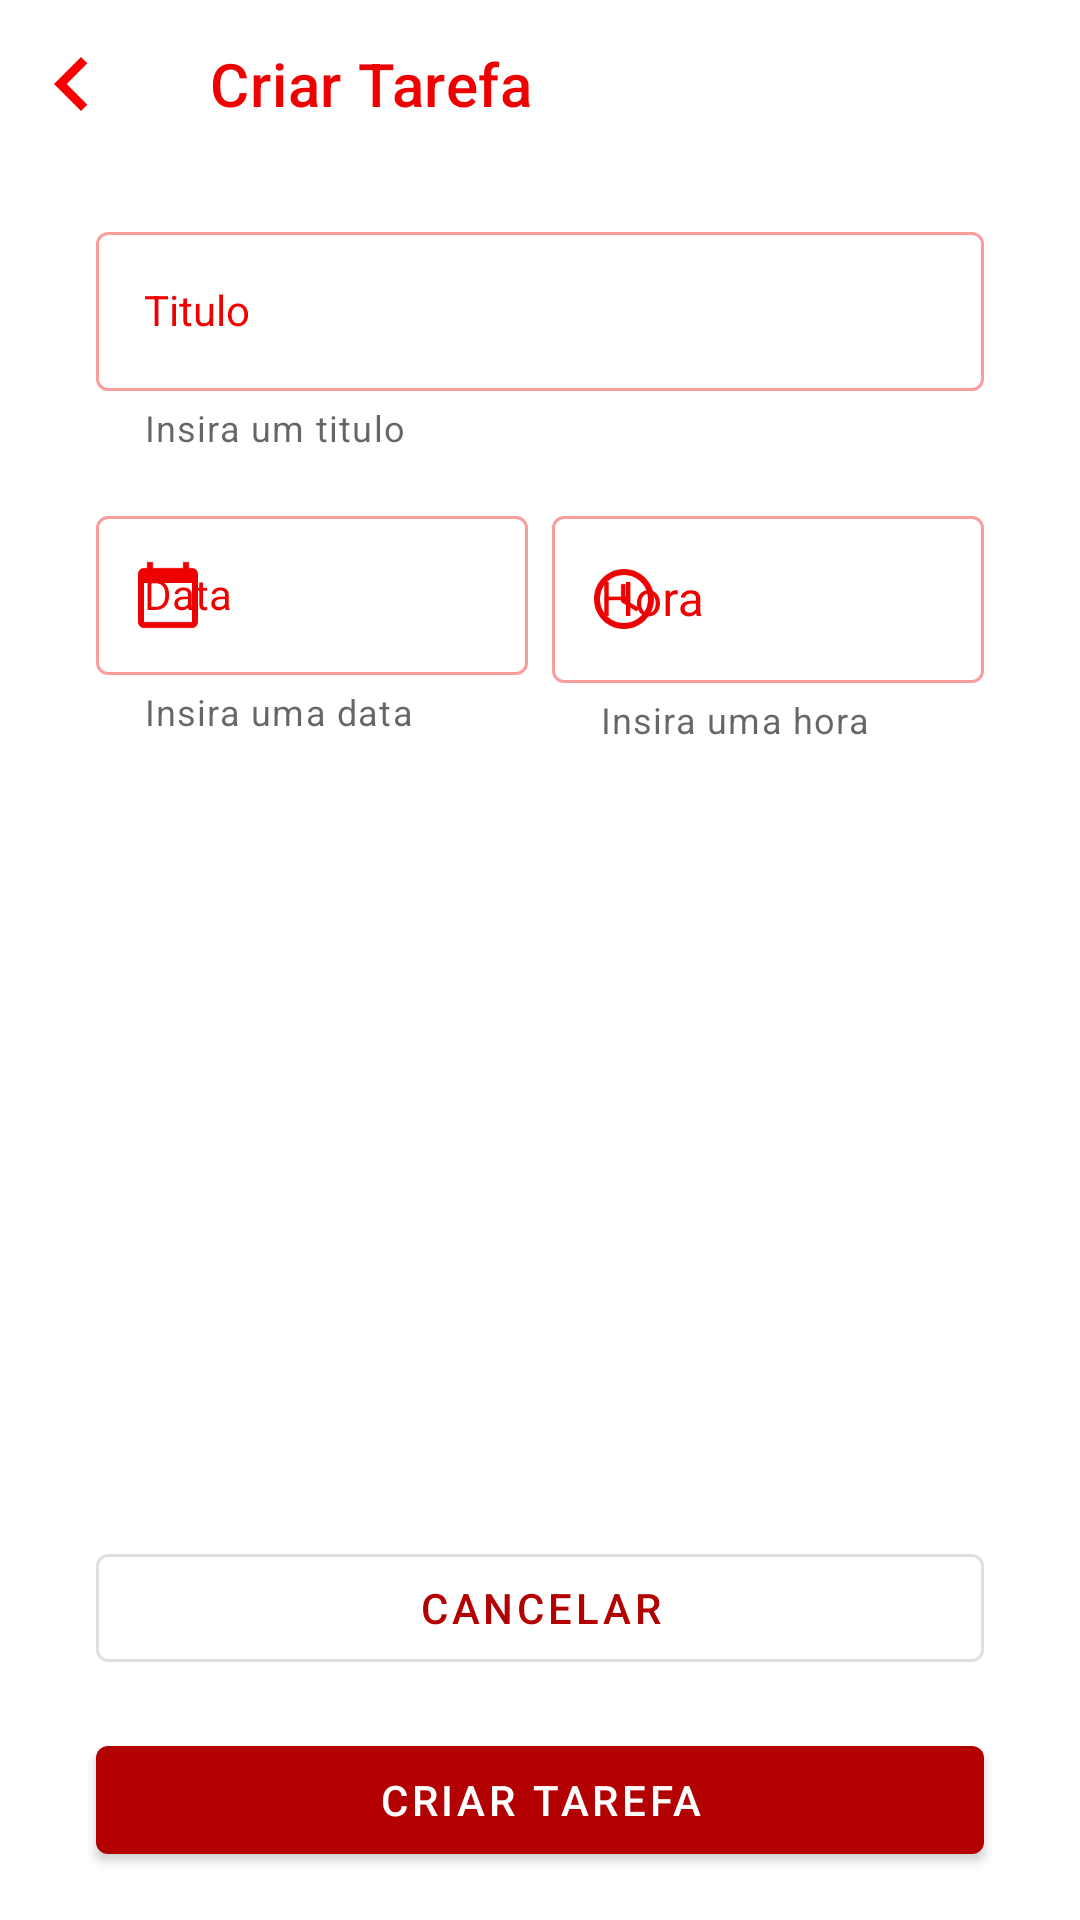

Named icons in this screenshot (1080x1920) and their centers, (x,y):
navigate before: (71,84)
